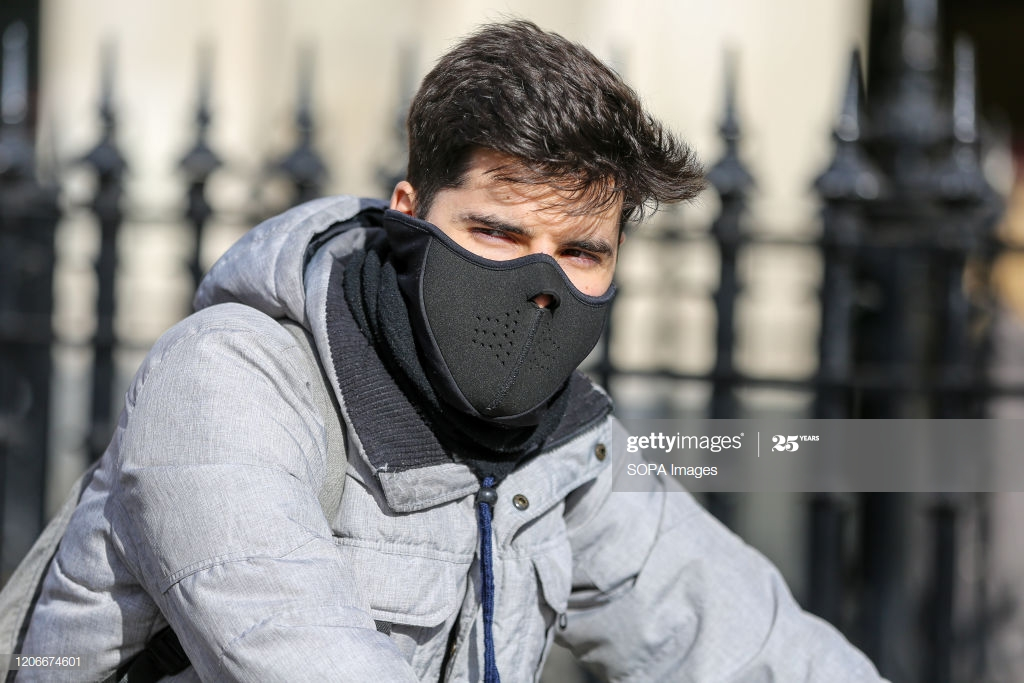with_mask: (384, 45, 714, 410)
